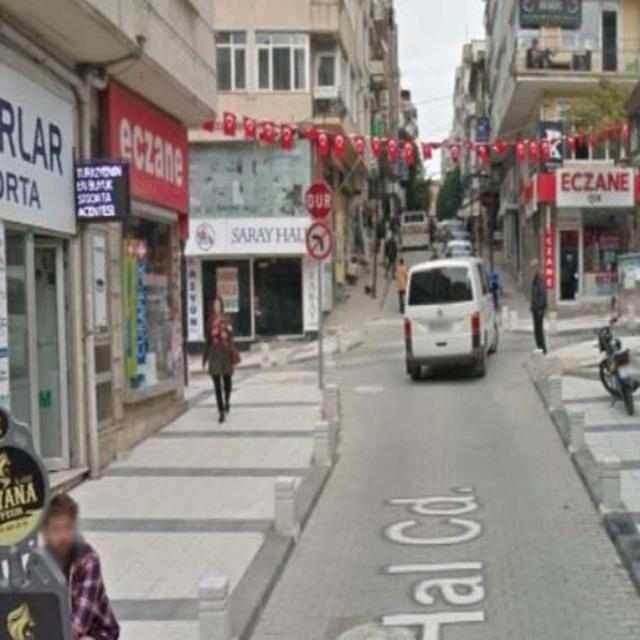dur: (306, 182, 332, 220)
soladonulmez: (306, 222, 332, 259)
